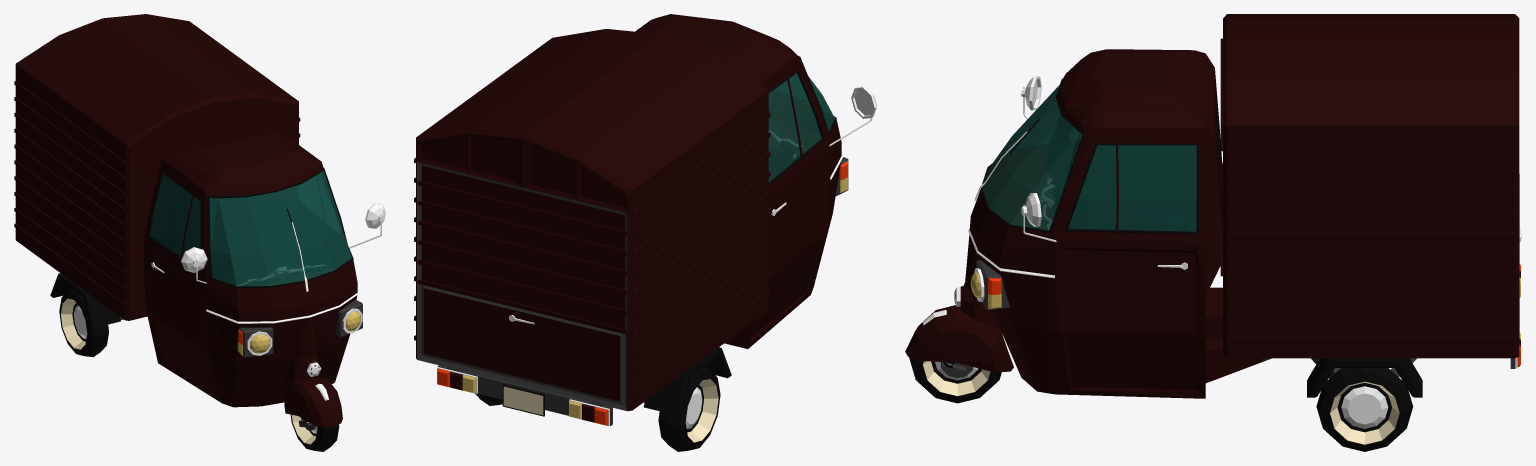
Rendered from 3Wheeler_02.FBX.
3 views of the same model, side by side, from view 1: azimuth 30°, elevation 25°; view 2: azimuth 150°, elevation 25°; view 3: azimuth 270°, elevation 25° (orthographic). The views are drawn at different scales.
Parts seen in each view (by area): view 1: 3Wheeler_Transporter, interior, mudguard, wheel_b-r, lights, wheel_f, headLights, mirror_r, mirror_l; view 2: 3Wheeler_Transporter, interior, wheel_b-r, licensePlate_b, mirror_r, lights, backupLights; view 3: 3Wheeler_Transporter, interior, wheel_b-l, mudguard, wheel_f, lights, mirror_l.
Part boxes in pixels (left/top/right/bottom): 3Wheeler_Transporter: left=14, top=14, right=358, bottom=407; interior: left=150, top=170, right=351, bottom=285; mudguard: left=284, top=376, right=342, bottom=427; wheel_b-r: left=59, top=289, right=108, bottom=357; lights: left=236, top=299, right=362, bottom=357; wheel_f: left=290, top=414, right=339, bottom=451; headLights: left=238, top=311, right=361, bottom=355; mirror_r: left=181, top=247, right=207, bottom=283; mirror_l: left=349, top=203, right=385, bottom=248; 3Wheeler_Transporter: left=414, top=14, right=843, bottom=425; interior: left=769, top=73, right=834, bottom=181; wheel_b-r: left=658, top=366, right=720, bottom=451; licensePlate_b: left=502, top=384, right=544, bottom=416; mirror_r: left=829, top=86, right=876, bottom=146; lights: left=437, top=157, right=848, bottom=425; backupLights: left=462, top=375, right=582, bottom=419; 3Wheeler_Transporter: left=954, top=14, right=1521, bottom=398; interior: left=983, top=86, right=1196, bottom=231; wheel_b-l: left=1316, top=368, right=1413, bottom=451; mudguard: left=905, top=305, right=1013, bottom=372; wheel_f: left=909, top=357, right=1001, bottom=403; lights: left=974, top=260, right=1517, bottom=368; mirror_l: left=1021, top=193, right=1056, bottom=242.
Size of the model in its own units: 13.5 by 17.46 by 26.82.
